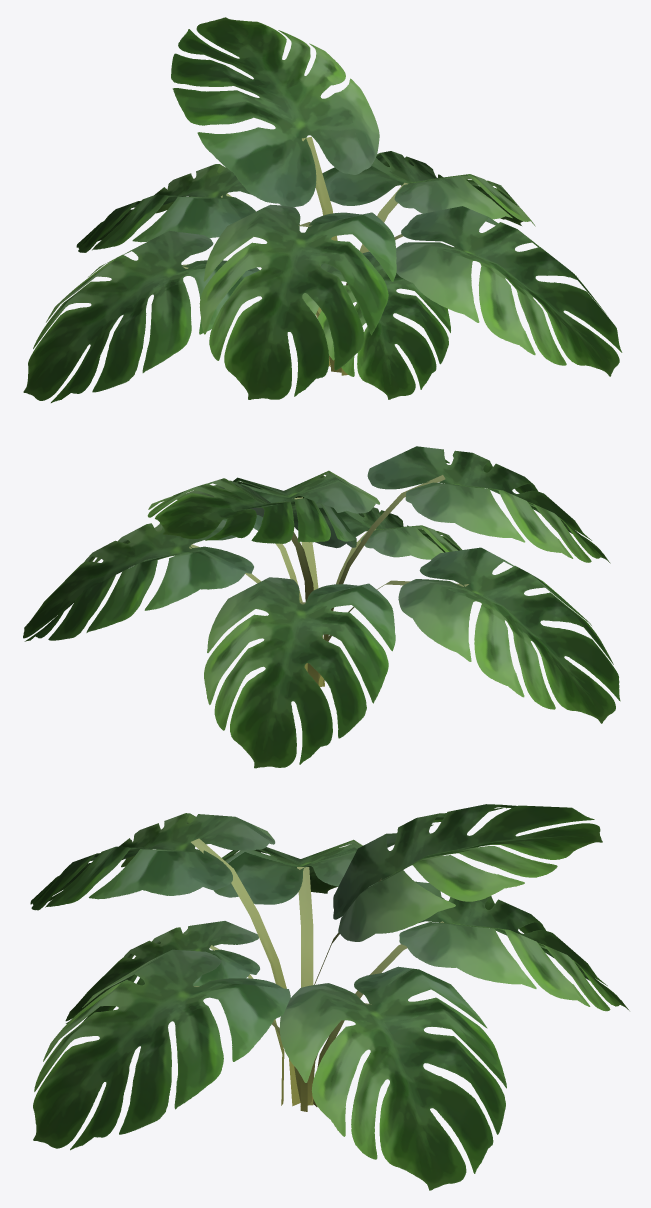
File: Plant2.fbx
3 views of the same model, one above another, from view 1: azimuth 30°, elevation 25°; view 2: azimuth 150°, elevation 25°; view 3: azimuth 270°, elevation 25° (orthographic). The views are drawn at different scales.
Parts seen in each view (by area): view 1: leaves.002; view 2: leaves.002; view 3: leaves.002.
Part boxes in pixels (<box>): leaves.002: <box>23,17,622,402</box>; leaves.002: <box>23,446,620,768</box>; leaves.002: <box>30,804,629,1190</box>.
Size of the model in its own units: 95.91 by 41.86 by 83.62.
